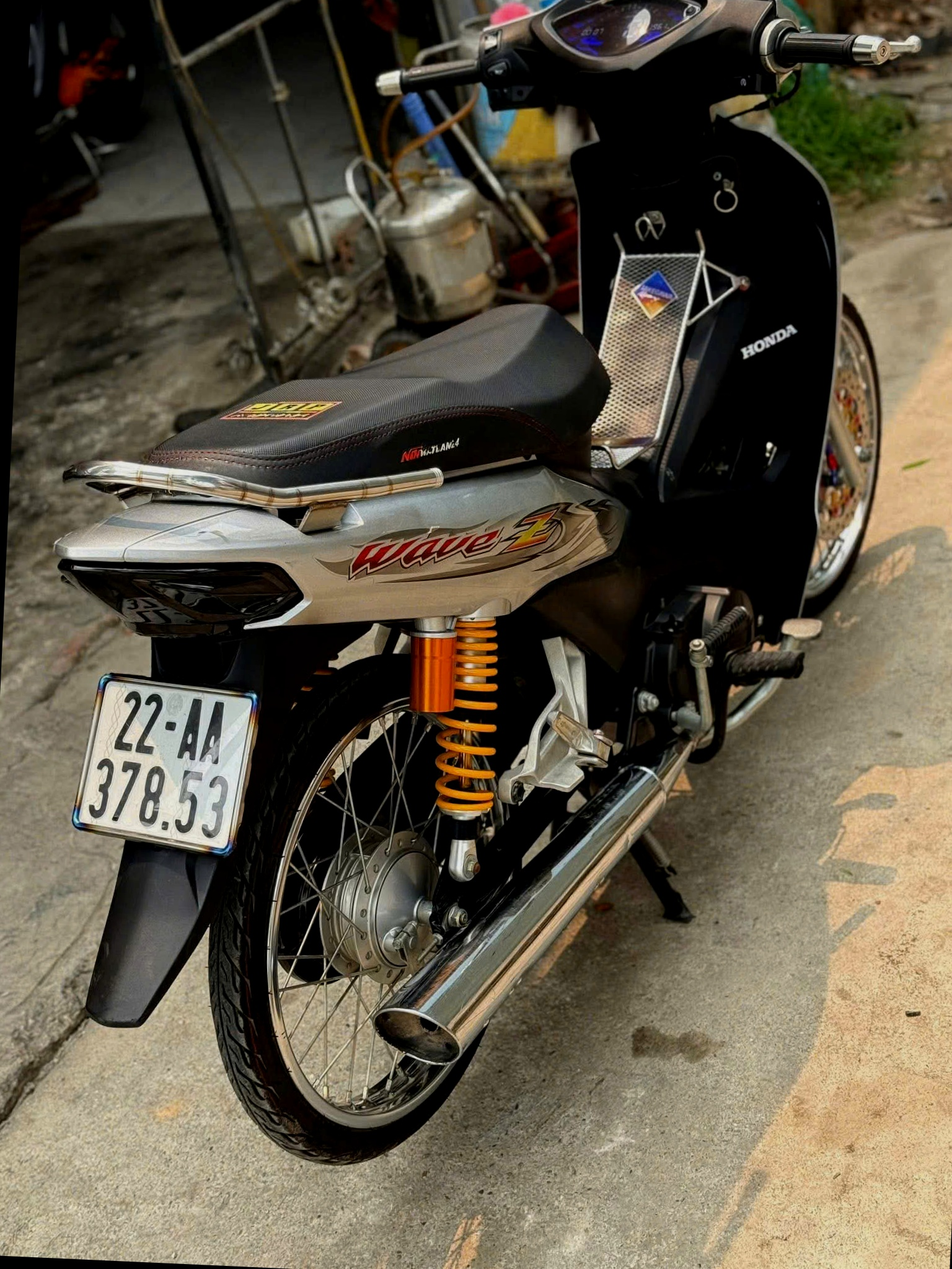Bien-so: (59, 668, 264, 857)
